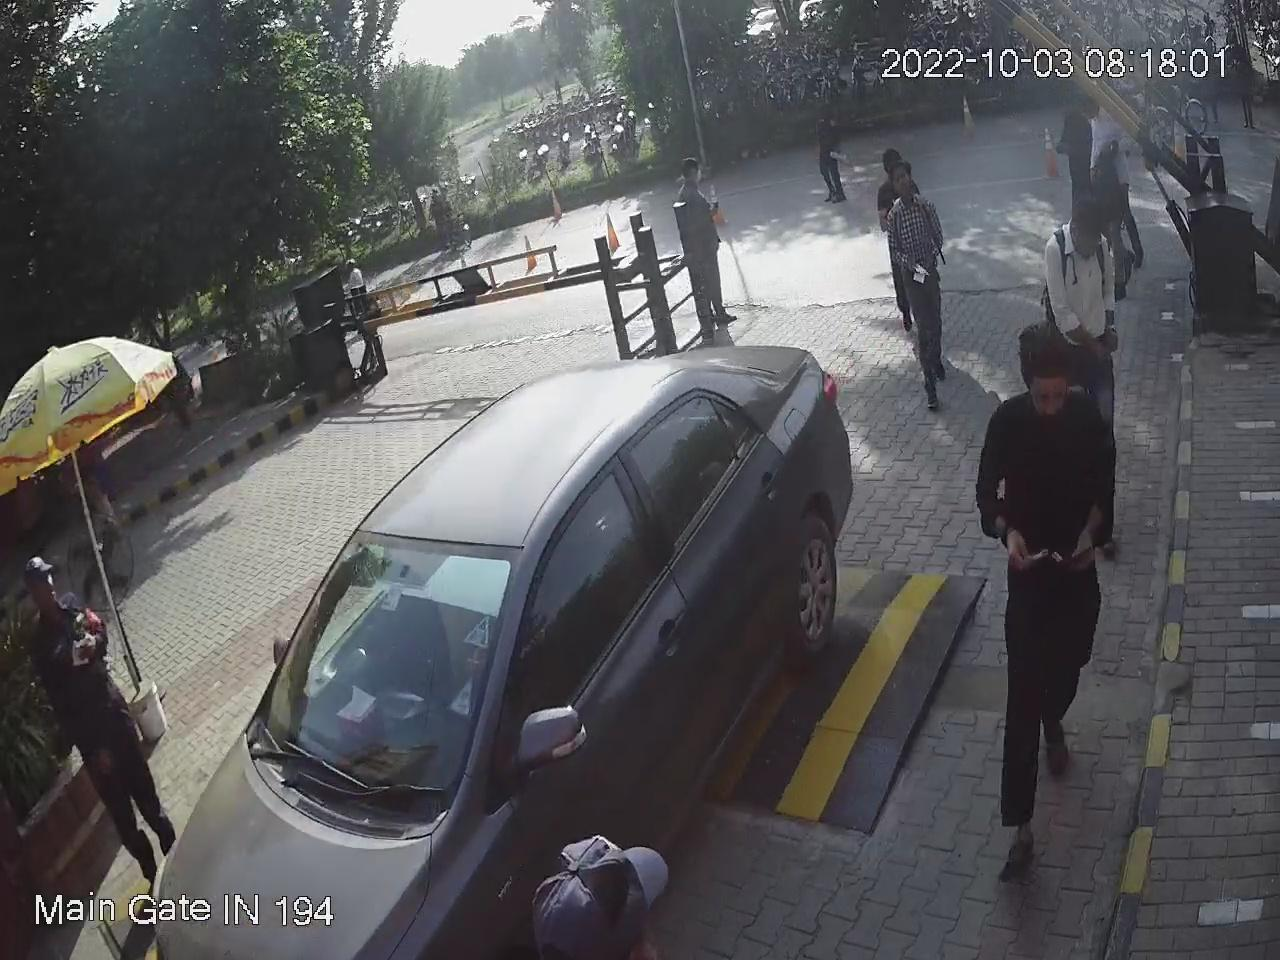windshield: (241, 522, 528, 828)
